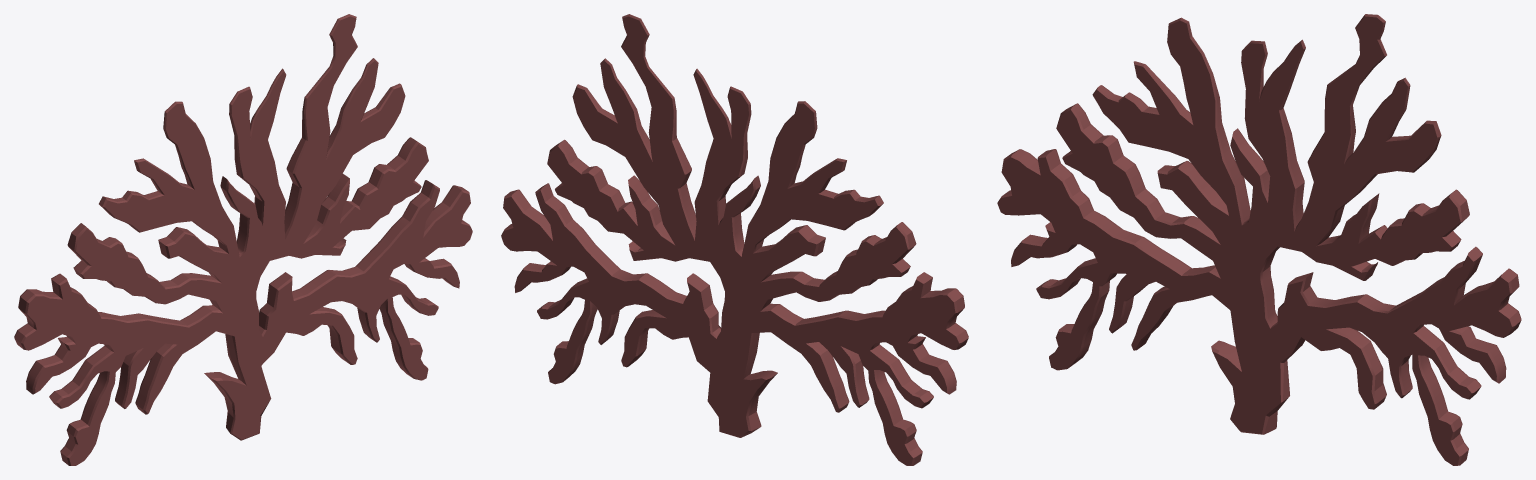
File: algae_texture_2.fbx
3 views of the same model, side by side, from view 1: azimuth 30°, elevation 25°; view 2: azimuth 150°, elevation 25°; view 3: azimuth 330°, elevation 25° (orthographic). The views are drawn at different scales.
Parts seen in each view (by area): view 1: algae_2; view 2: algae_2; view 3: algae_2.
Part boxes in pixels (x1,y1,x2,y2): algae_2: (14, 14, 472, 465); algae_2: (501, 14, 968, 465); algae_2: (997, 14, 1521, 465).
Bounding box in the file's own units: 85.16 × 70.33 × 6.04.
